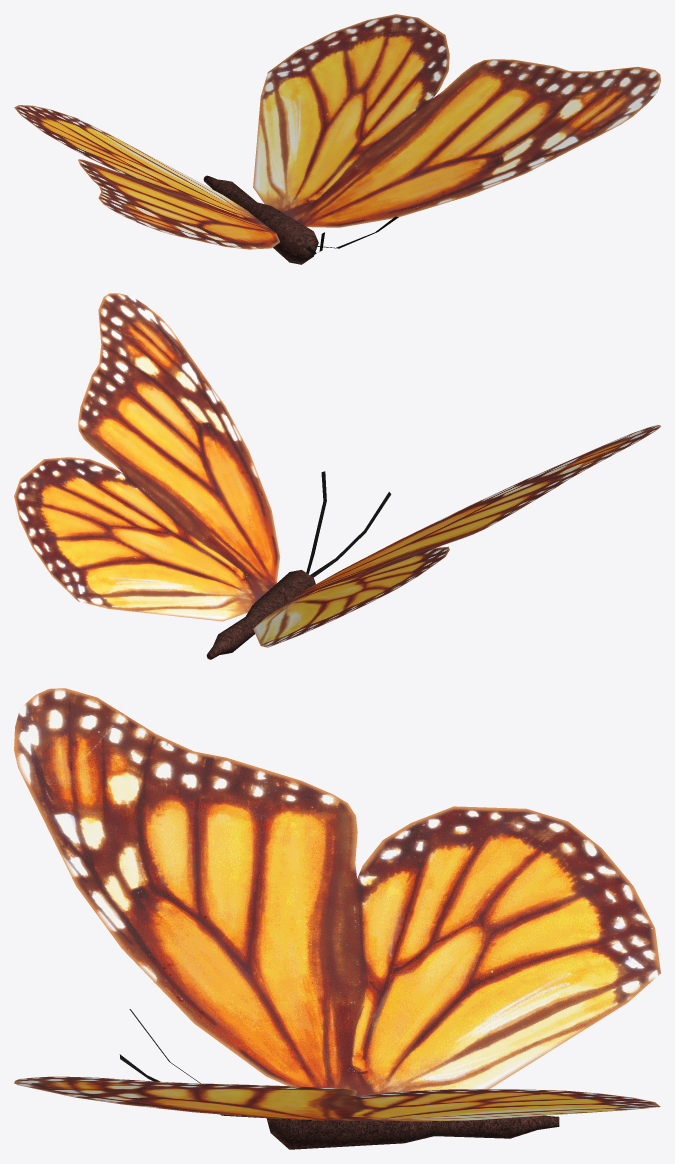
File: Butterfly.FBX
3 renders of one model, top to bottom at view 1: azimuth 30°, elevation 25°; view 2: azimuth 150°, elevation 25°; view 3: azimuth 270°, elevation 25°, orthographic. The views are drawn at different scales.
Parts seen in each view (by area): view 1: Butterfly; view 2: Butterfly; view 3: Butterfly.
Part boxes in pixels (x1,y1,x2,y2): Butterfly: [14, 14, 660, 264]; Butterfly: [14, 293, 660, 659]; Butterfly: [14, 688, 660, 1149].
Bounding box in the file's own units: 2.2 × 0.7046 × 1.55.
1 material, 1 textured.
